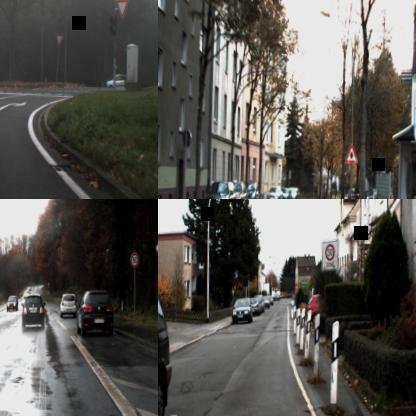give way: (115, 0, 129, 19), (54, 32, 64, 48)
priority at next intersection: (344, 143, 359, 163)
priority road: (154, 233, 158, 262)
speed limit 30: (324, 243, 336, 261)
speed limit 50: (129, 252, 139, 268)
